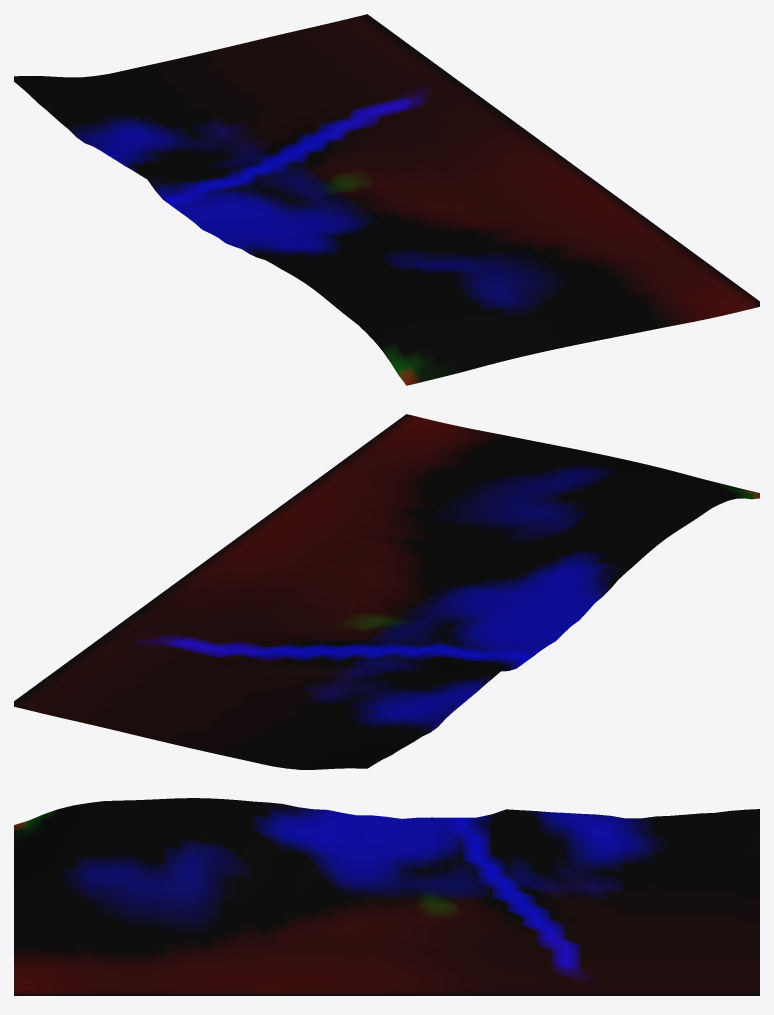
File: coast_10_11.glb
3 renders of one model, top to bottom at view 1: azimuth 30°, elevation 25°; view 2: azimuth 150°, elevation 25°; view 3: azimuth 270°, elevation 25°, orthographic. The views are drawn at different scales.
Visible parts, largest first — view 1: terrain; view 2: terrain; view 3: terrain.
Part boxes in pixels (x1,y1,x2,y2): terrain: (14, 14, 759, 385); terrain: (14, 414, 759, 769); terrain: (14, 798, 759, 995).
Size of the model in its own units: 104 by 12.02 by 200.
